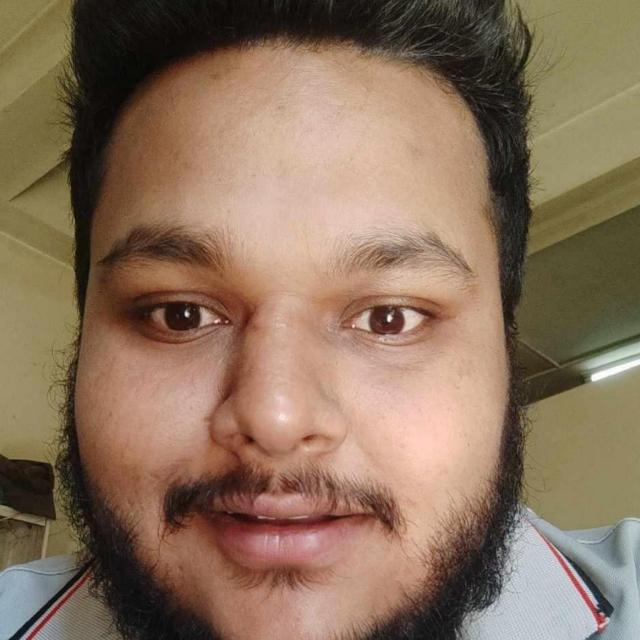Surprised: (54, 85, 533, 640)
